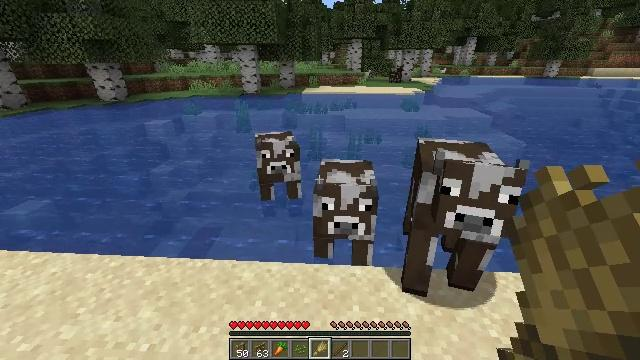cow: (397, 140, 524, 294), (311, 161, 377, 265), (256, 133, 301, 200), (389, 64, 403, 83)
